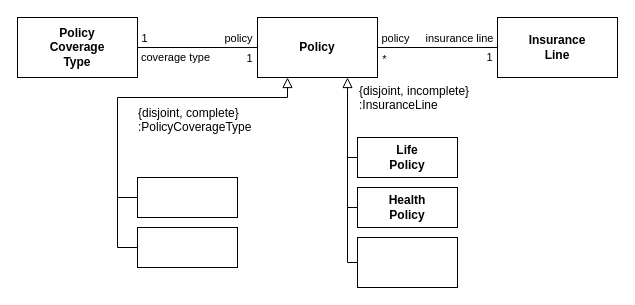
Image size: 635x305. Some labels were removed from this diagram. Here are the shapes that lost their labels. From the top down, the centre of each, then its label:
At [187,197]: "Group Policy".
At [187,247]: "Individual Policy".
At [407,262]: "Property/ Casualty Policy".
